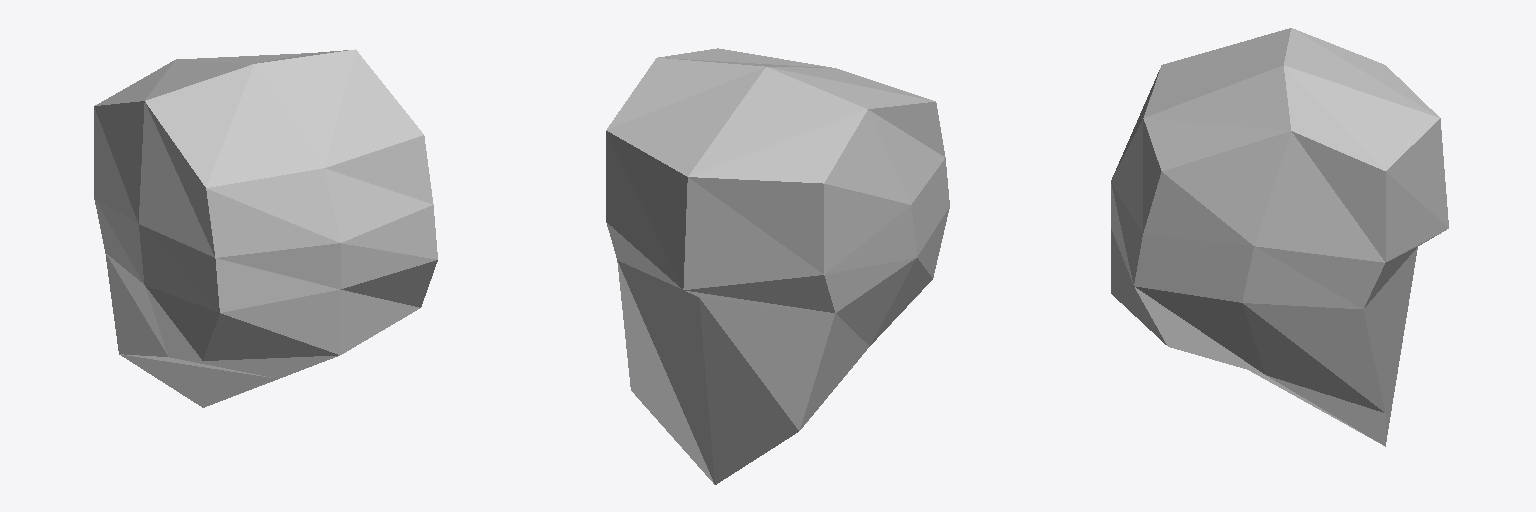
File: samurai_head.obj
The picture shows the model from 3 angles: view 1: azimuth 30°, elevation 25°; view 2: azimuth 150°, elevation 25°; view 3: azimuth 270°, elevation 25°; orthographic projection.
Parts seen in each view (by area): view 1: Cube.001; view 2: Cube.001; view 3: Cube.001.
Boxes of the visible parts, x1=… form: Cube.001: x1=94, y1=49, x2=437, y2=407; Cube.001: x1=606, y1=48, x2=949, y2=484; Cube.001: x1=1111, y1=28, x2=1448, y2=446.
Bounding box in the file's own units: 0.5343 × 0.7473 × 0.6006.